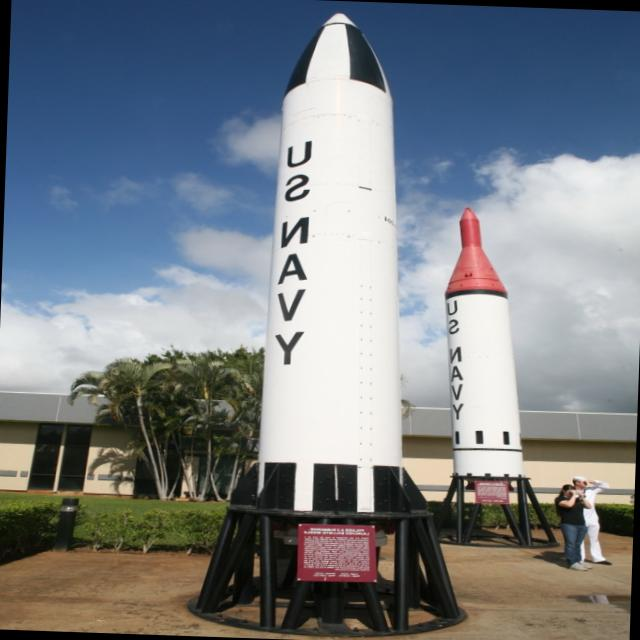rocket: (233, 15, 419, 506), (448, 207, 537, 484)
